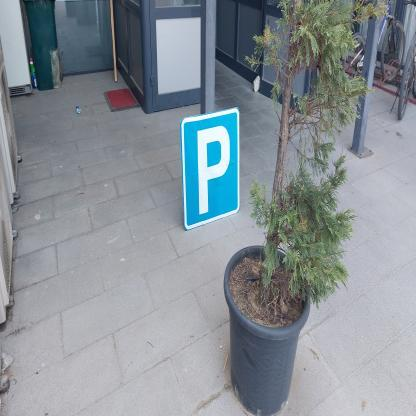parking: (181, 105, 240, 230)
